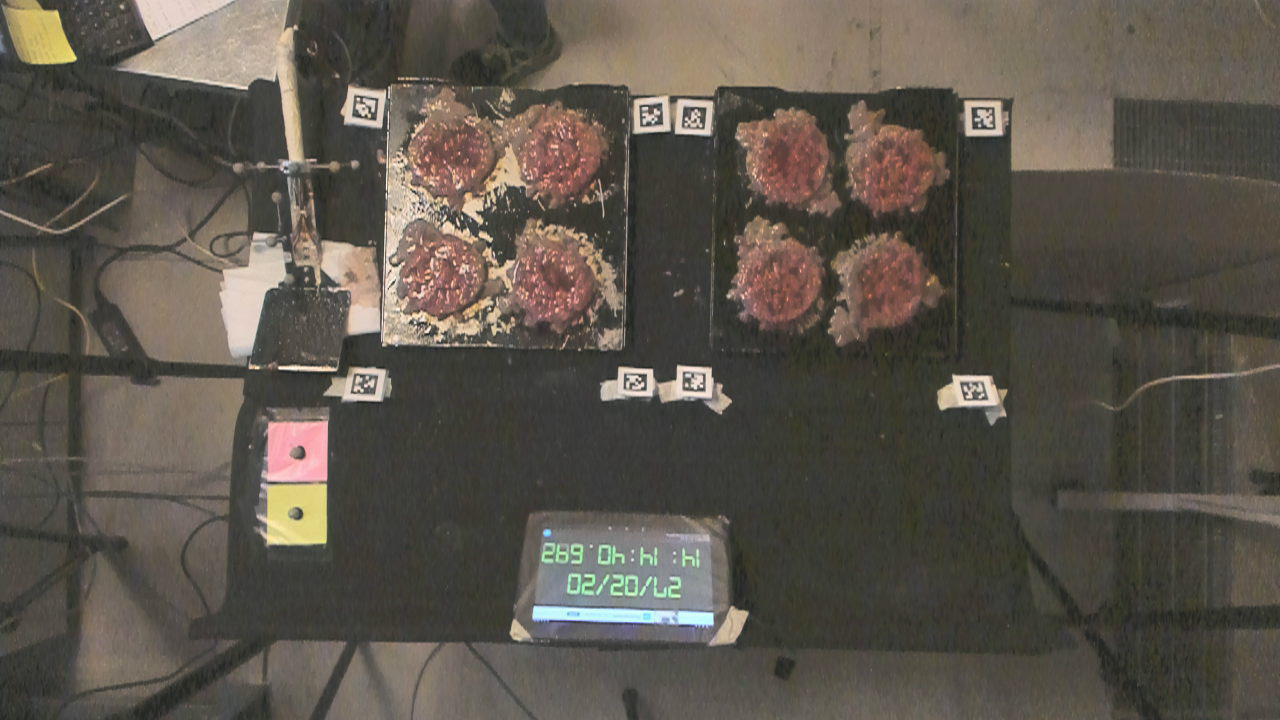hamburger: (844, 118, 942, 211), (737, 232, 816, 323), (844, 246, 925, 328), (403, 117, 494, 188), (517, 241, 594, 322), (523, 111, 598, 188), (759, 115, 826, 198), (407, 237, 476, 316)
marker: (269, 423, 327, 480)
